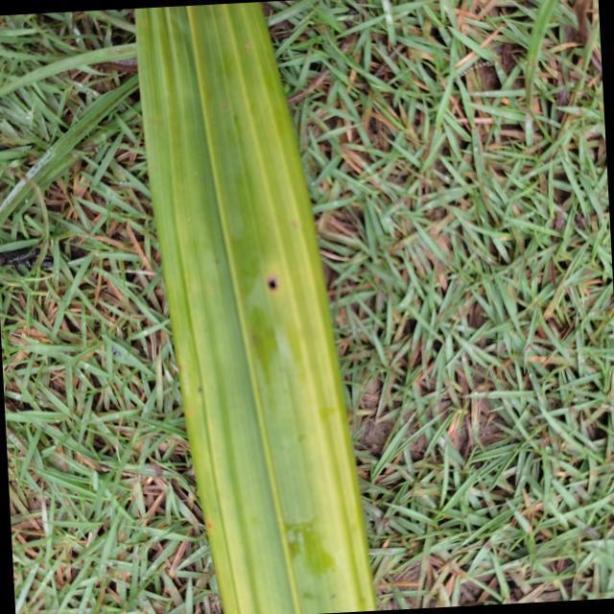nitrogen: (139, 0, 376, 614)
